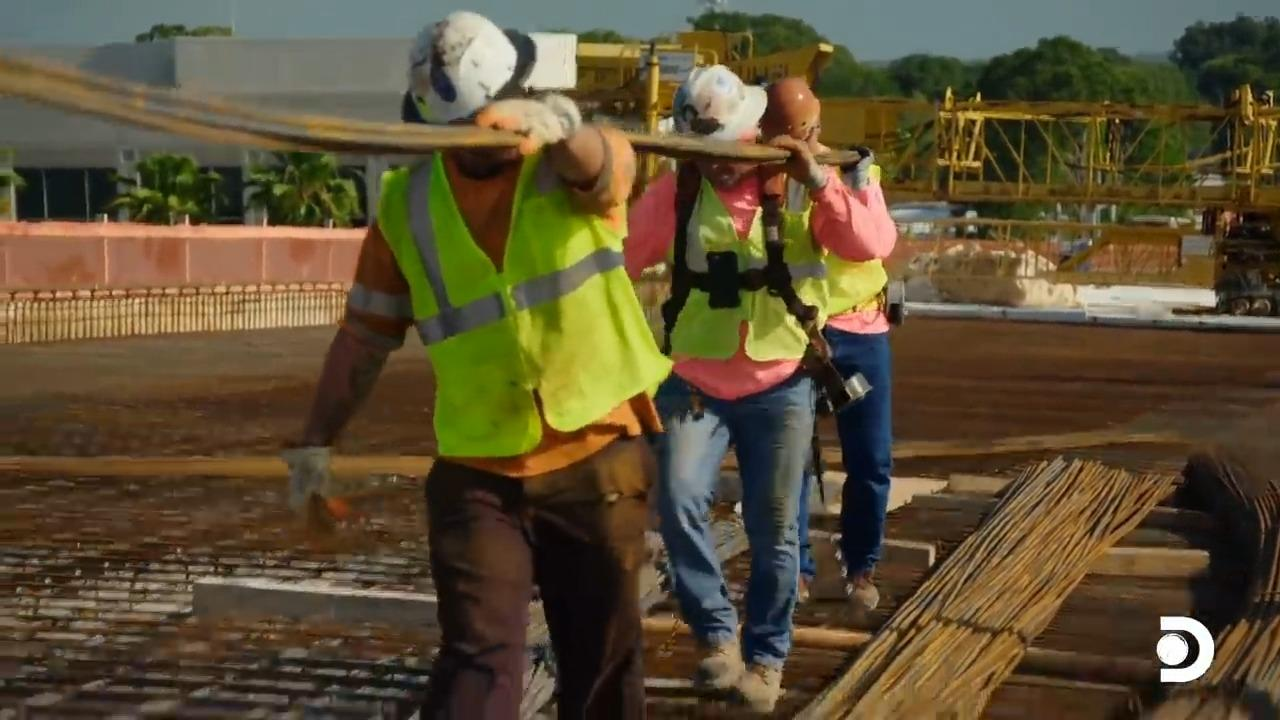Gloves: (279, 443, 358, 529), (472, 92, 570, 155), (767, 134, 817, 186)
Helmet: (405, 4, 540, 132), (660, 60, 772, 138), (749, 62, 825, 151)
Person: (279, 10, 675, 718), (621, 64, 898, 714)
Safety Boot: (731, 658, 786, 710), (699, 642, 745, 691), (846, 573, 880, 614)
Safety Vest: (412, 212, 646, 428), (674, 199, 815, 364)
